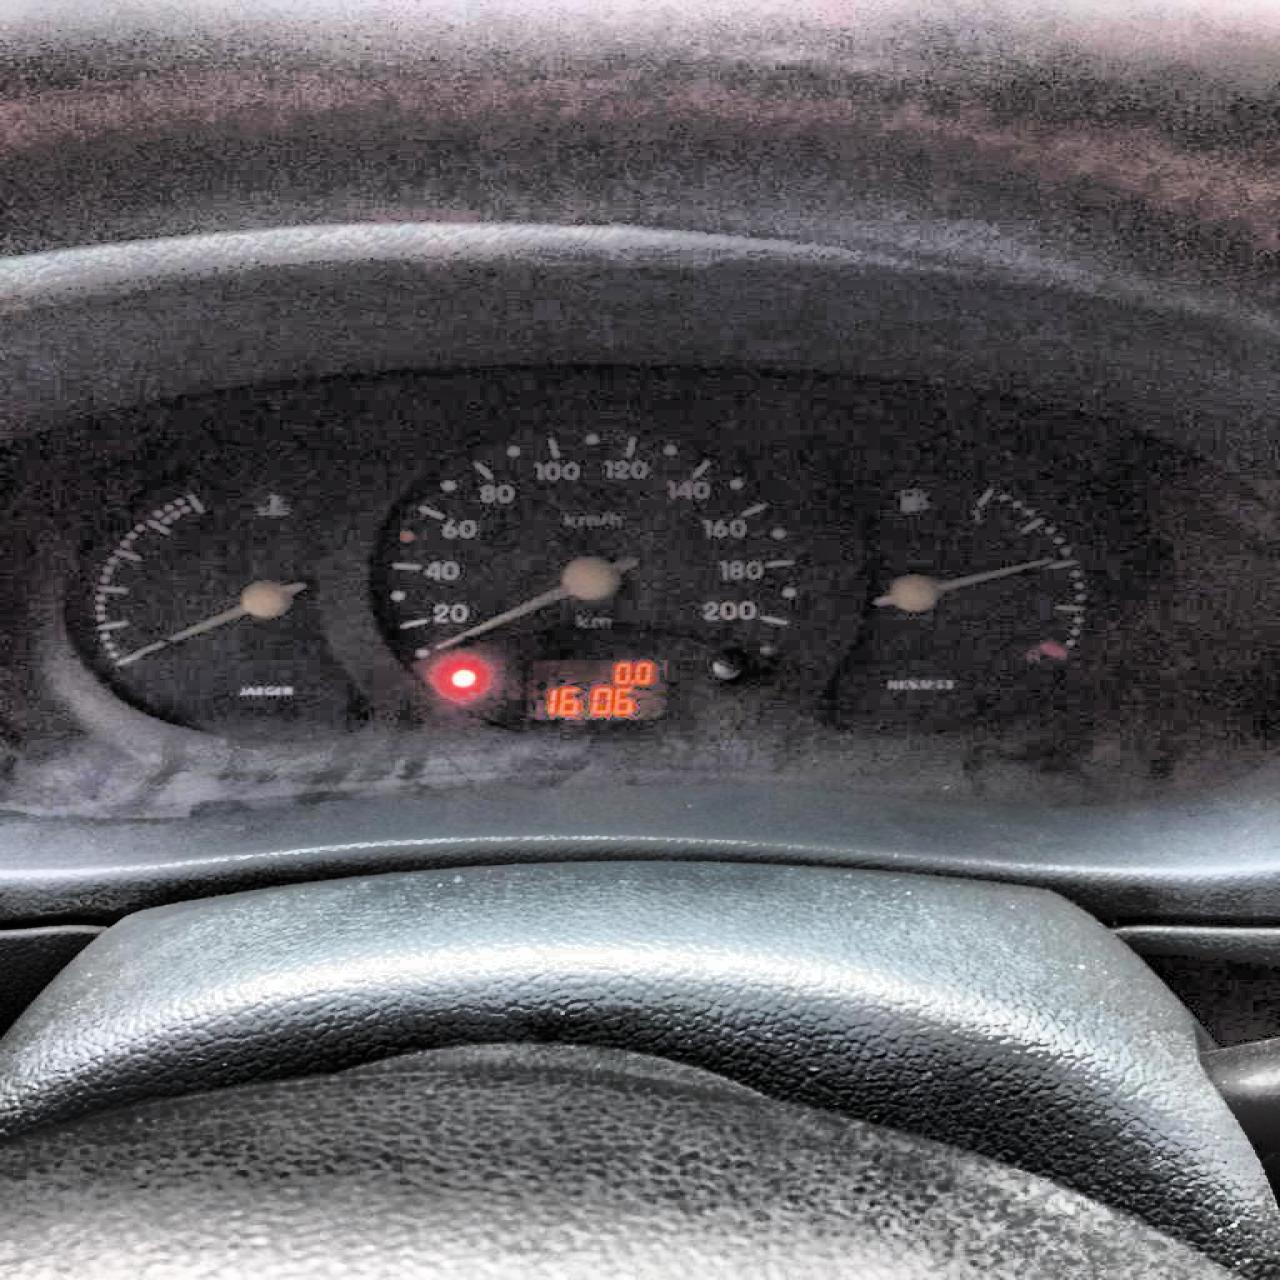-: (628, 679, 633, 682)
0: (588, 686, 612, 714), (633, 661, 652, 683), (612, 661, 631, 682)
1: (545, 688, 557, 714)
6: (612, 685, 633, 714), (557, 686, 578, 714)
odometer: (509, 654, 679, 728)
